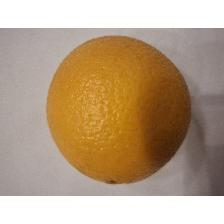Orange: (45, 34, 193, 186)
